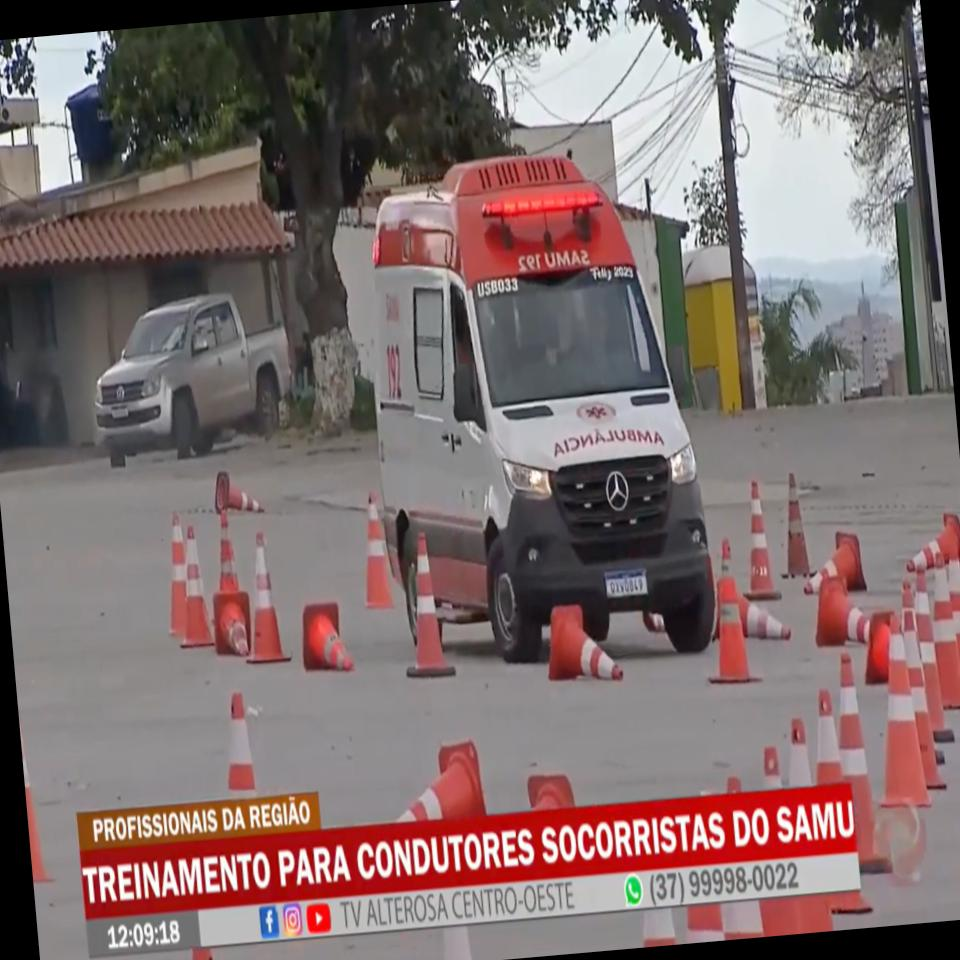bombeiro: (350, 138, 724, 690)
